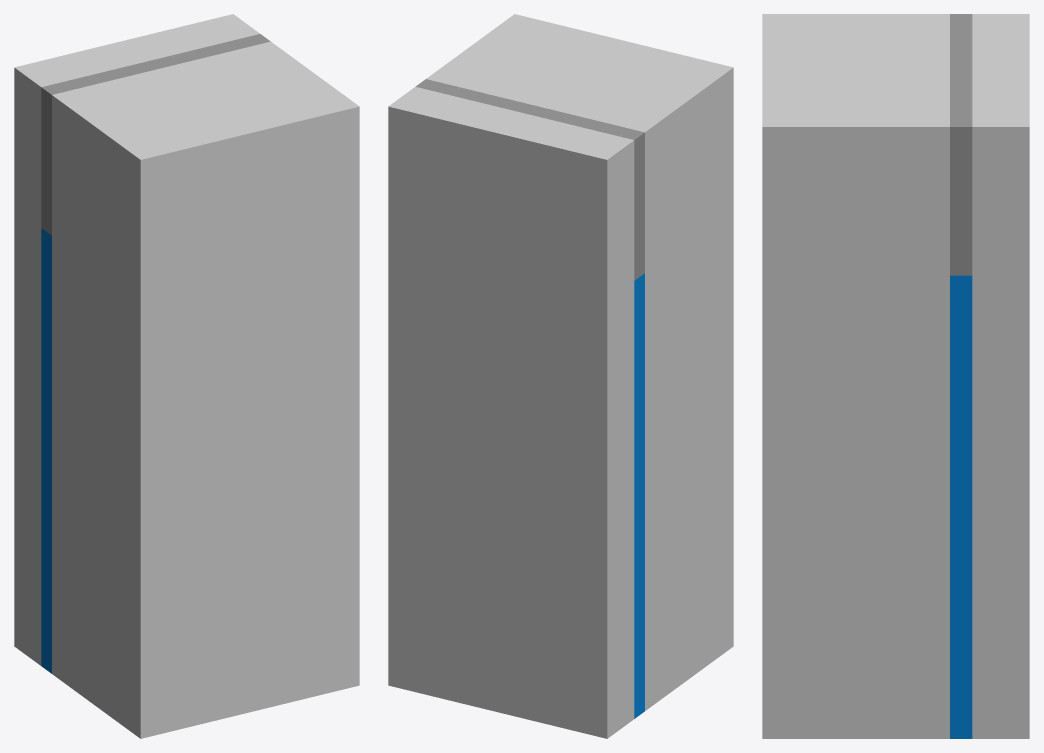
Rendered from WaterTower.fbx.
3 renders of one model, left to right at view 1: azimuth 30°, elevation 25°; view 2: azimuth 150°, elevation 25°; view 3: azimuth 270°, elevation 25°, orthographic. The views are drawn at different scales.
Parts seen in each view (by area): view 1: Cube.009; view 2: Cube.009; view 3: Cube.009.
Part boxes in pixels (x1,y1,x2,y2): Cube.009: (14, 14, 359, 738); Cube.009: (388, 14, 733, 738); Cube.009: (762, 14, 1029, 738).
Bounding box in the file's own units: 200 × 505 × 200.
